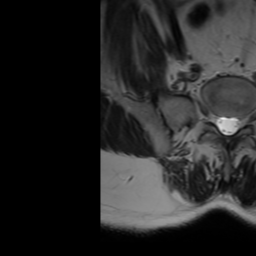CCS_normal: (224, 108, 231, 143)
LFS_normal: (240, 109, 249, 133)
LLS_normal: (231, 110, 240, 137)
RFS_normal: (208, 105, 216, 133)
RLS_normal: (216, 110, 224, 137)
